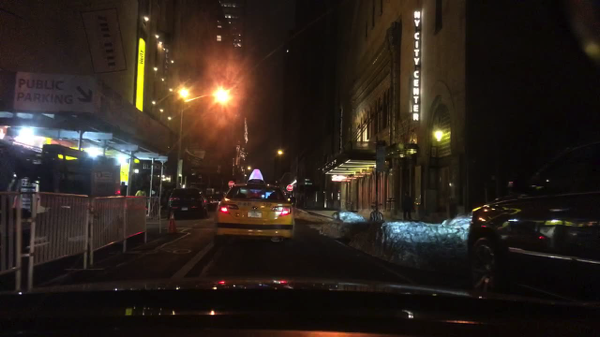bike: (369, 203, 382, 223)
car: (466, 141, 599, 301), (213, 169, 297, 246), (166, 188, 206, 220), (206, 193, 222, 210), (288, 195, 297, 207)
person: (400, 188, 414, 221), (135, 183, 147, 198)
traffic sign: (12, 72, 98, 112), (227, 179, 236, 188), (303, 181, 313, 186), (286, 185, 294, 191)
